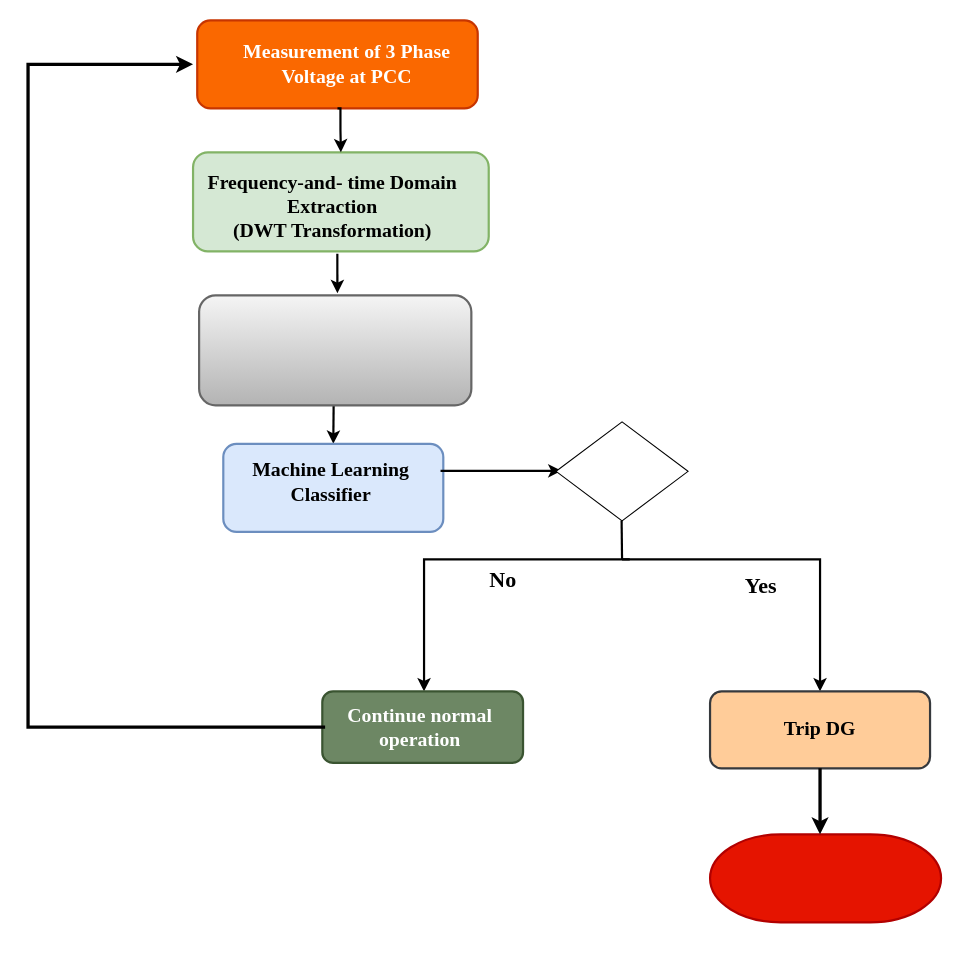
The diagram is 961 pixels wide and 974 high, and some of its shapes have lost their labels. Here are the shapes that lost their labels. From the top down, the box of each, then its label:
(197, 294, 472, 406): 12 statistical features extracted from freq. band
(555, 421, 688, 521): If islanding?
(708, 833, 942, 923): End
